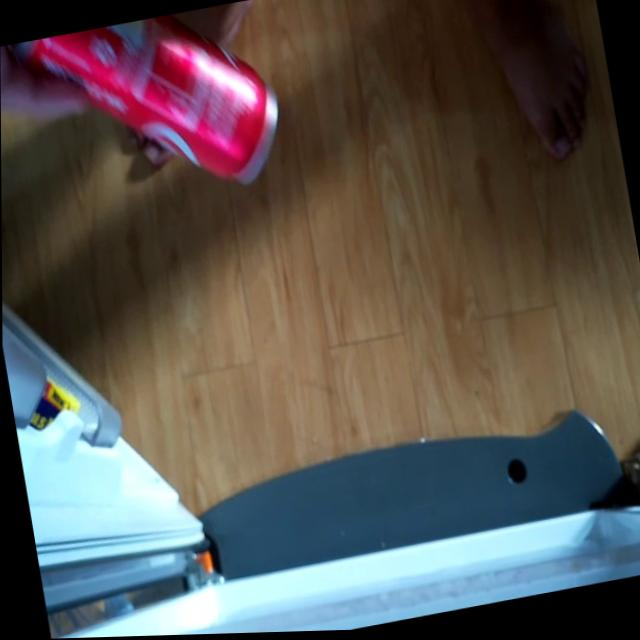coke: (0, 0, 291, 229)
